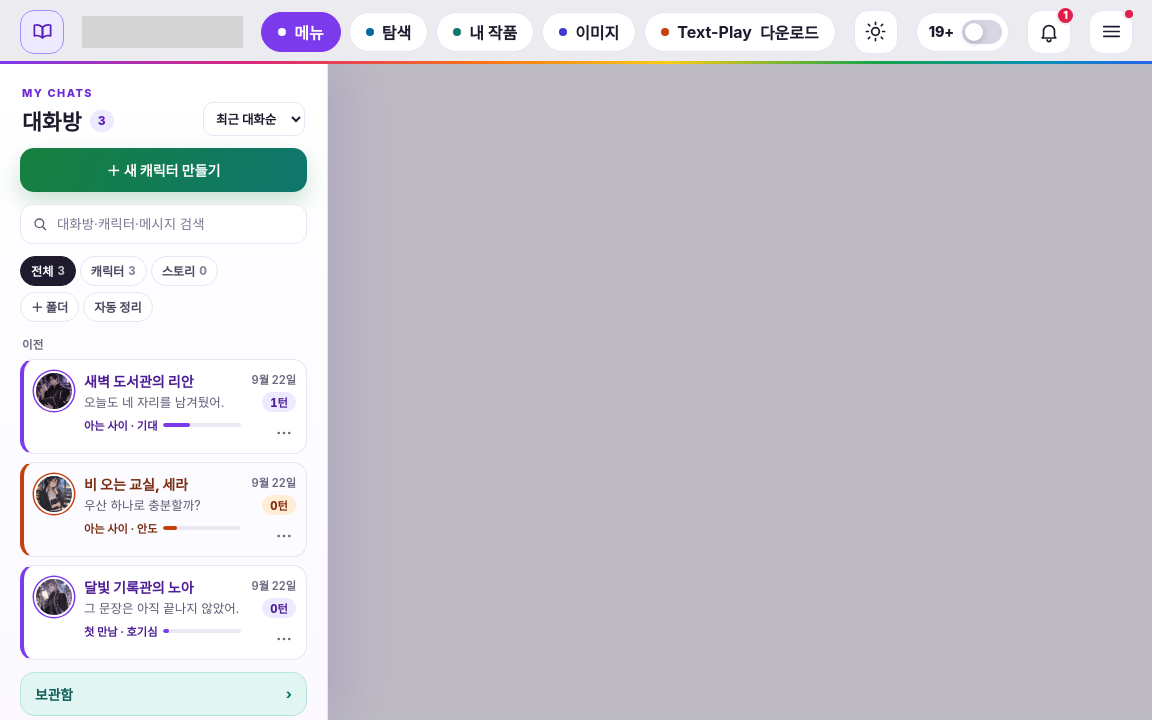
Test: 앱 셸 패널 › 우측 패널 정보를 프로필 토큰 계정 설정 지원 영역으로 구분한다
Click the button named "사용자 패널 열기와 닫기" at (1111, 32), box [1089,10,1133,54]
(page scrolled)
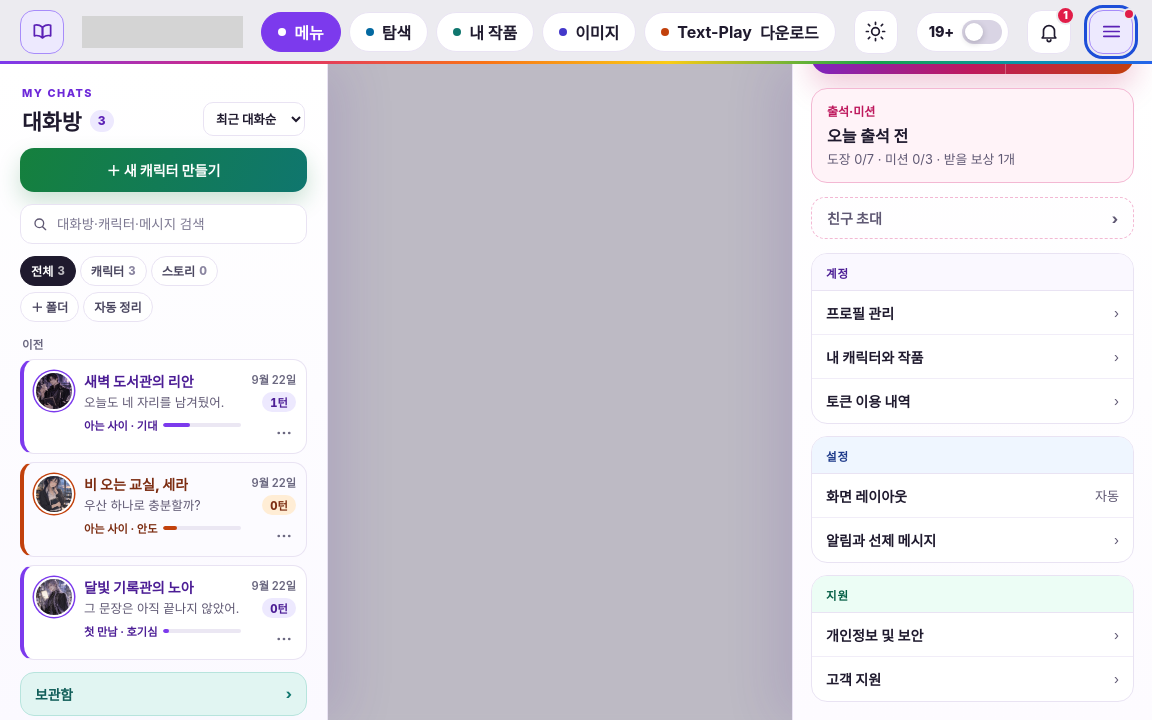
Now the heading "계정" is shown, box [812,254,1133,291]
Now the heading "설정" is shown, box [812,437,1133,474]
Now the heading "지원" is shown, box [812,576,1133,613]
